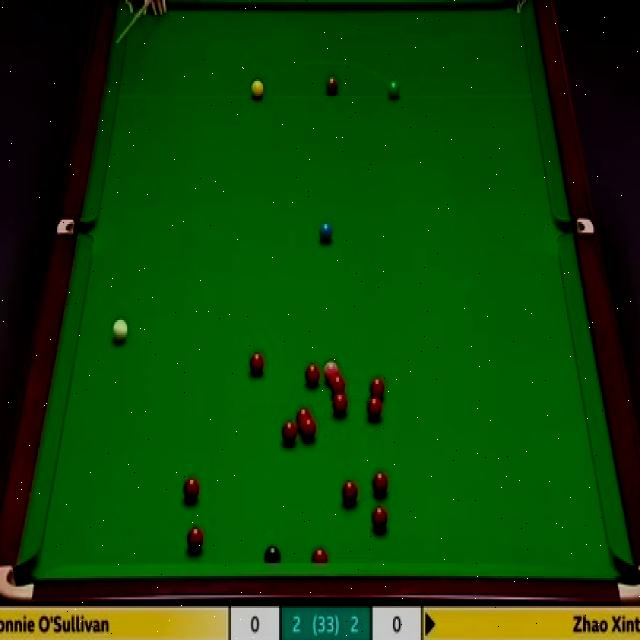black-ball: (263, 542, 281, 567)
blue-ball: (320, 223, 334, 243)
brown-ball: (325, 78, 338, 98)
green-ball: (386, 78, 401, 101)
pink-ball: (323, 358, 339, 382)
red-ball: (370, 504, 389, 533), (371, 470, 390, 498), (182, 476, 201, 502), (341, 479, 358, 507), (186, 525, 204, 551), (248, 350, 264, 377), (332, 392, 348, 418), (304, 361, 320, 387), (281, 420, 297, 445), (367, 396, 382, 421), (369, 376, 385, 399), (301, 416, 316, 440), (329, 375, 346, 395), (296, 407, 311, 425), (311, 547, 327, 563)
white-ball: (109, 317, 130, 348)
yellow-ball: (250, 76, 264, 100)
